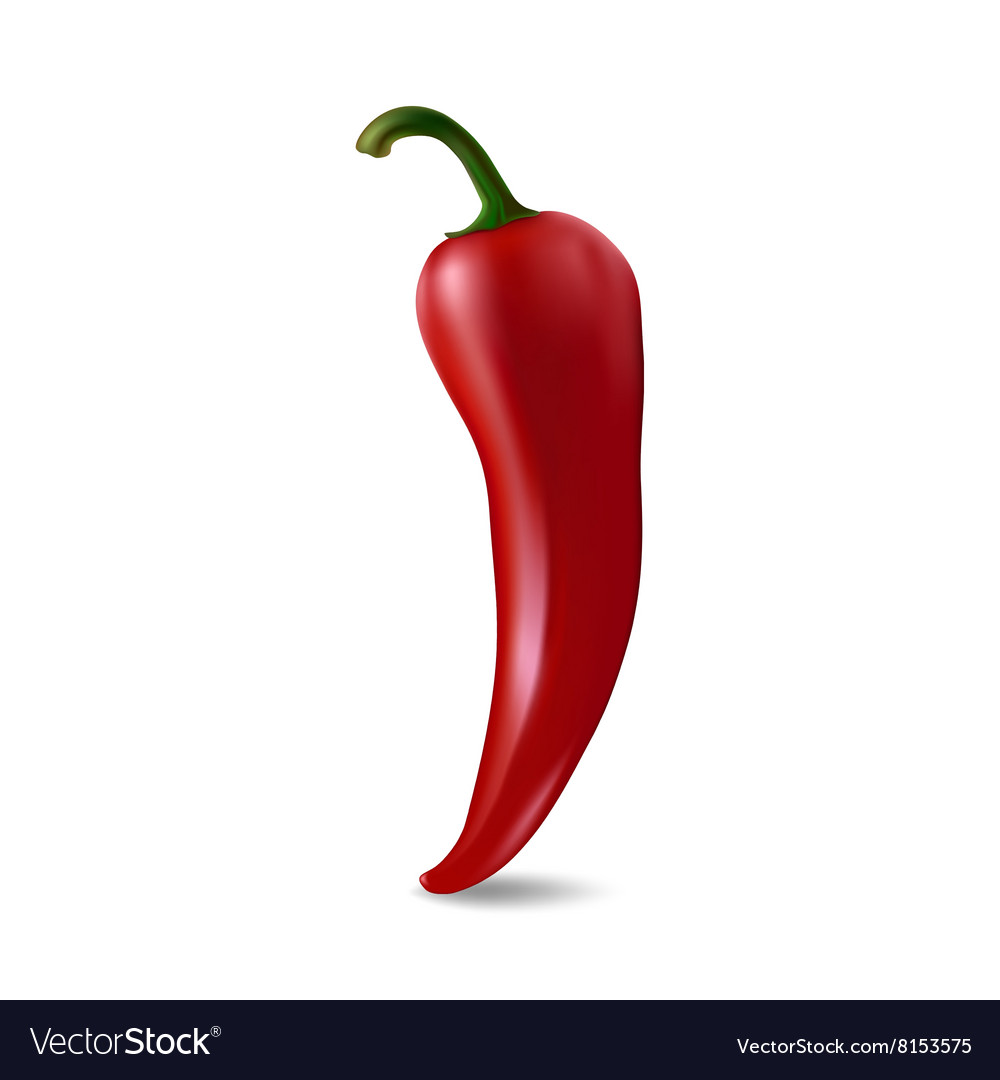Cabai: (257, 70, 724, 931)
